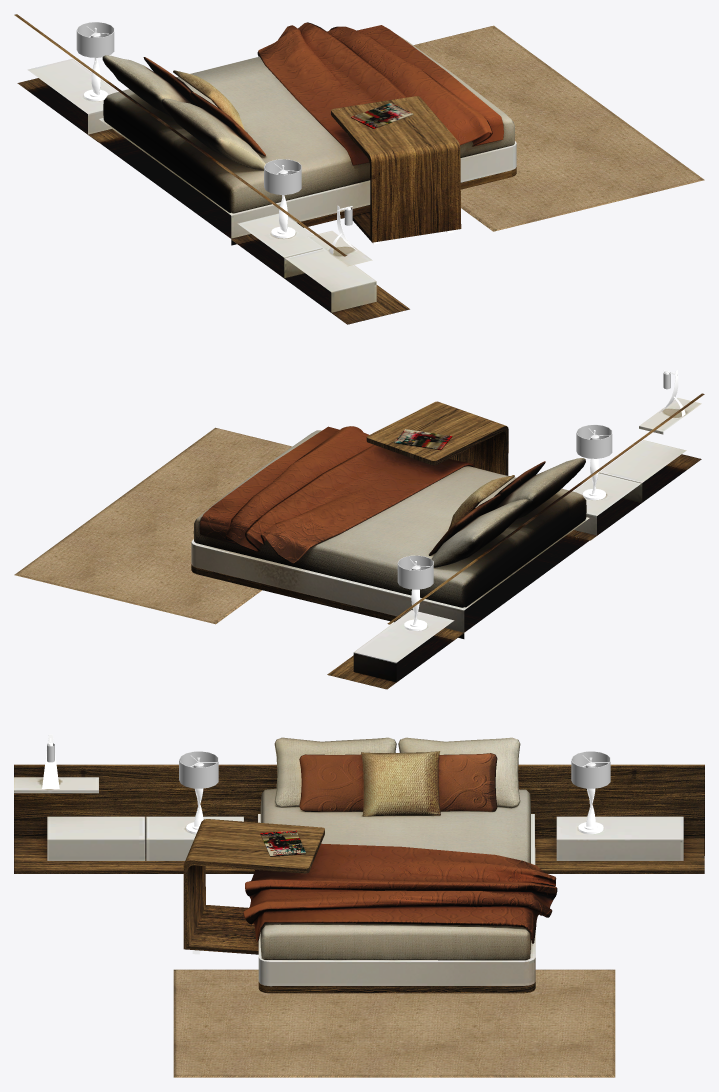
3 views of the same model, one above another, from view 1: azimuth 30°, elevation 25°; view 2: azimuth 150°, elevation 25°; view 3: azimuth 270°, elevation 25° (orthographic). The views are drawn at different scales.
Visible parts, largest first — view 1: BedSet7_Wood 1_8, BedSet7_Carpet_1, BedSet7_Cushion_2, BedSet7_Sheet_5, BedSet7_Pillow_4, Lamp_13_shade_15, Lamp_13_shade_19, BedSet7_Magazine_3, Lamp13_Metal_14, Lamp13_Metal_18; view 2: BedSet7_Wood 1_8, BedSet7_Carpet_1, BedSet7_Cushion_2, BedSet7_Sheet_5, BedSet7_Pillow_4, Lamp_13_shade_15, Lamp_13_shade_19, BedSet7_Magazine_3; view 3: BedSet7_Wood 1_8, BedSet7_Carpet_1, BedSet7_Sheet_5, BedSet7_Cushion_2, BedSet7_Pillow_4, Lamp_13_shade_15, Lamp_13_shade_19, BedSet7_Magazine_3, Lamp13_Metal_14.
Part boxes in pixels (x1,y1,x2,y2): BedSet7_Wood 1_8: [14, 14, 516, 324]; BedSet7_Carpet_1: [413, 25, 704, 231]; BedSet7_Cushion_2: [103, 34, 515, 213]; BedSet7_Sheet_5: [257, 22, 503, 165]; BedSet7_Pillow_4: [102, 55, 265, 170]; Lamp_13_shade_15: [76, 22, 114, 57]; Lamp_13_shade_19: [264, 159, 301, 194]; BedSet7_Magazine_3: [351, 103, 413, 128]; Lamp13_Metal_14: [84, 26, 110, 101]; Lamp13_Metal_18: [271, 163, 298, 238]; BedSet7_Wood 1_8: [191, 393, 704, 689]; BedSet7_Carpet_1: [14, 427, 291, 624]; BedSet7_Cushion_2: [193, 430, 586, 607]; BedSet7_Sheet_5: [199, 426, 473, 564]; BedSet7_Pillow_4: [429, 458, 585, 567]; Lamp_13_shade_15: [397, 555, 433, 589]; Lamp_13_shade_19: [576, 424, 612, 458]; BedSet7_Magazine_3: [394, 429, 452, 449]; BedSet7_Wood 1_8: [14, 764, 704, 993]; BedSet7_Carpet_1: [173, 969, 615, 1077]; BedSet7_Sheet_5: [243, 843, 557, 943]; BedSet7_Cushion_2: [260, 788, 530, 960]; BedSet7_Pillow_4: [274, 737, 520, 816]; Lamp_13_shade_15: [571, 751, 610, 788]; Lamp_13_shade_19: [179, 751, 218, 788]; BedSet7_Magazine_3: [260, 830, 306, 856]; Lamp13_Metal_14: [578, 755, 608, 834].
Bounding box in the file's own units: 4.14 × 1.08 × 5.39.
7 materials, 4 textured.
